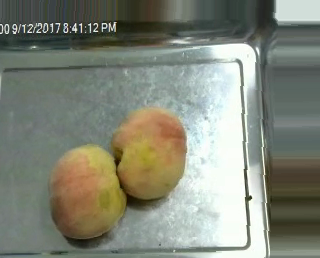Peach: (47, 143, 126, 241), (111, 105, 187, 200)
